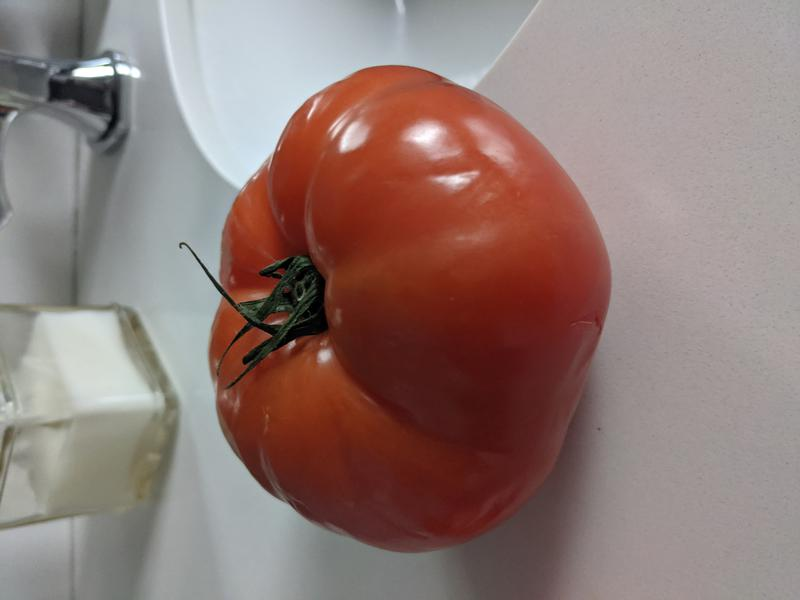tomato: (207, 65, 613, 554)
